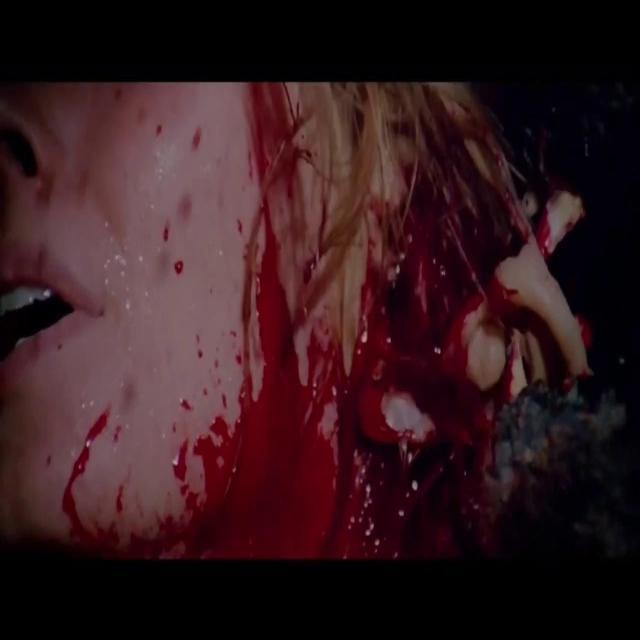flood: (221, 225, 481, 560)
